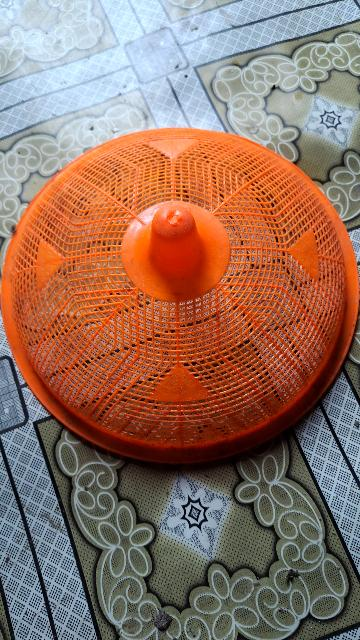hardplastic: (0, 140, 335, 439)
